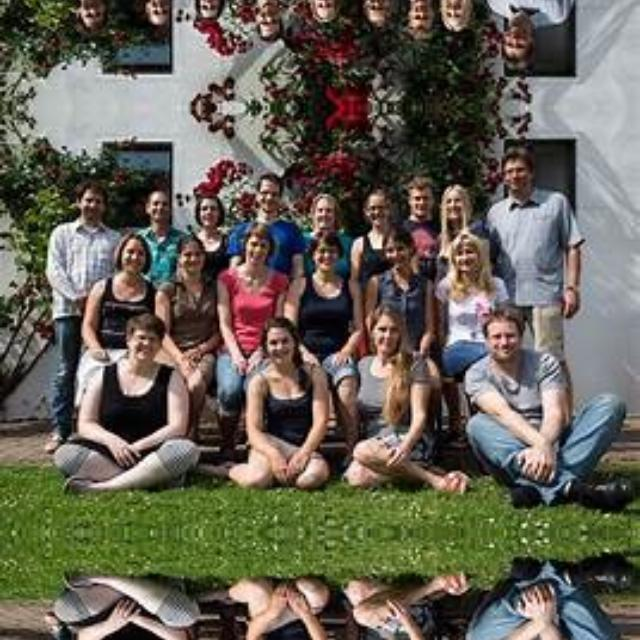person: (479, 316, 585, 498), (482, 151, 582, 335), (234, 316, 334, 488), (90, 315, 188, 467), (352, 308, 424, 436), (479, 565, 585, 640), (218, 226, 288, 330), (96, 232, 160, 338), (292, 234, 358, 336), (481, 0, 582, 63), (234, 577, 334, 640), (440, 236, 510, 324), (160, 234, 220, 332), (369, 233, 431, 321), (90, 598, 187, 640), (59, 186, 112, 232), (293, 188, 339, 240), (186, 190, 228, 244), (247, 170, 285, 228), (354, 190, 396, 238), (440, 177, 474, 235), (134, 187, 172, 235), (247, 0, 285, 43), (404, 177, 438, 225), (59, 0, 112, 28), (404, 0, 438, 37), (440, 0, 474, 37), (293, 0, 339, 25), (185, 0, 228, 24), (134, 0, 172, 27), (353, 0, 396, 23), (352, 628, 424, 640)
